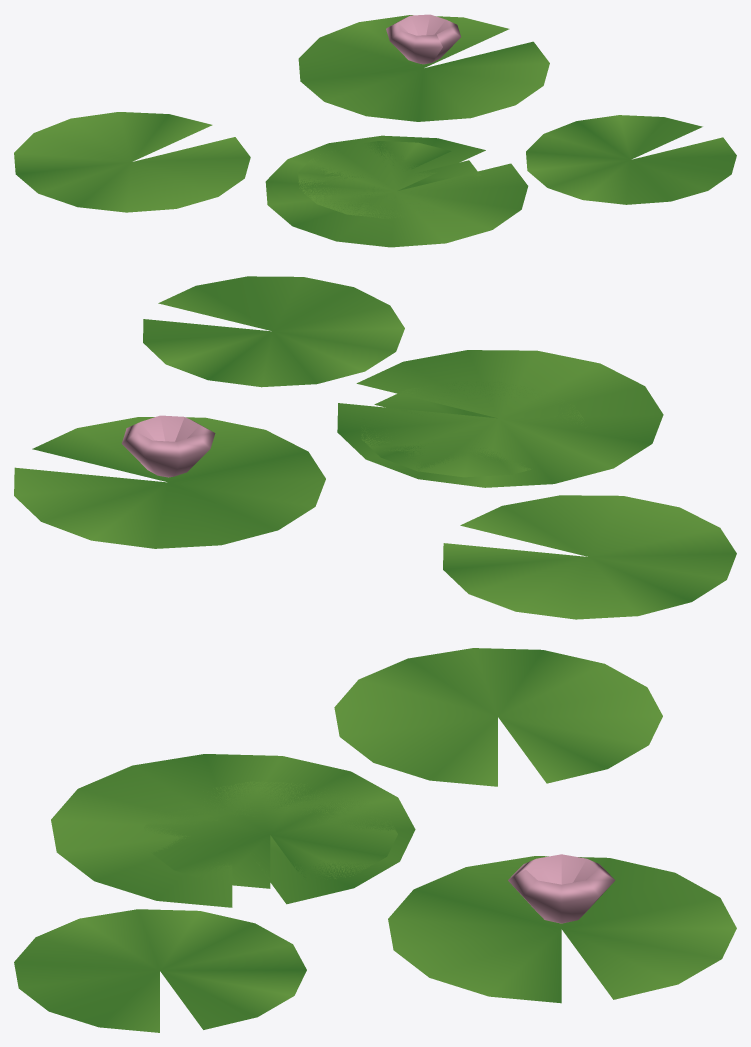
The model's file is plant_lilypads.glb.
The picture shows the model from 3 angles, top to bottom: view 1: azimuth 30°, elevation 25°; view 2: azimuth 150°, elevation 25°; view 3: azimuth 270°, elevation 25°; orthographic projection. The views are drawn at different scales.
Parts seen in each view (by area): view 1: lilypads_lilypad; view 2: lilypads_lilypad; view 3: lilypads_lilypad.
Part boxes in pixels (box(x1,y1,x2,y2)): lilypads_lilypad: box(14, 14, 736, 247); lilypads_lilypad: box(14, 276, 736, 619); lilypads_lilypad: box(14, 648, 736, 1032).
Bounding box in the file's own units: 1.52 × 0.11 × 1.21.
